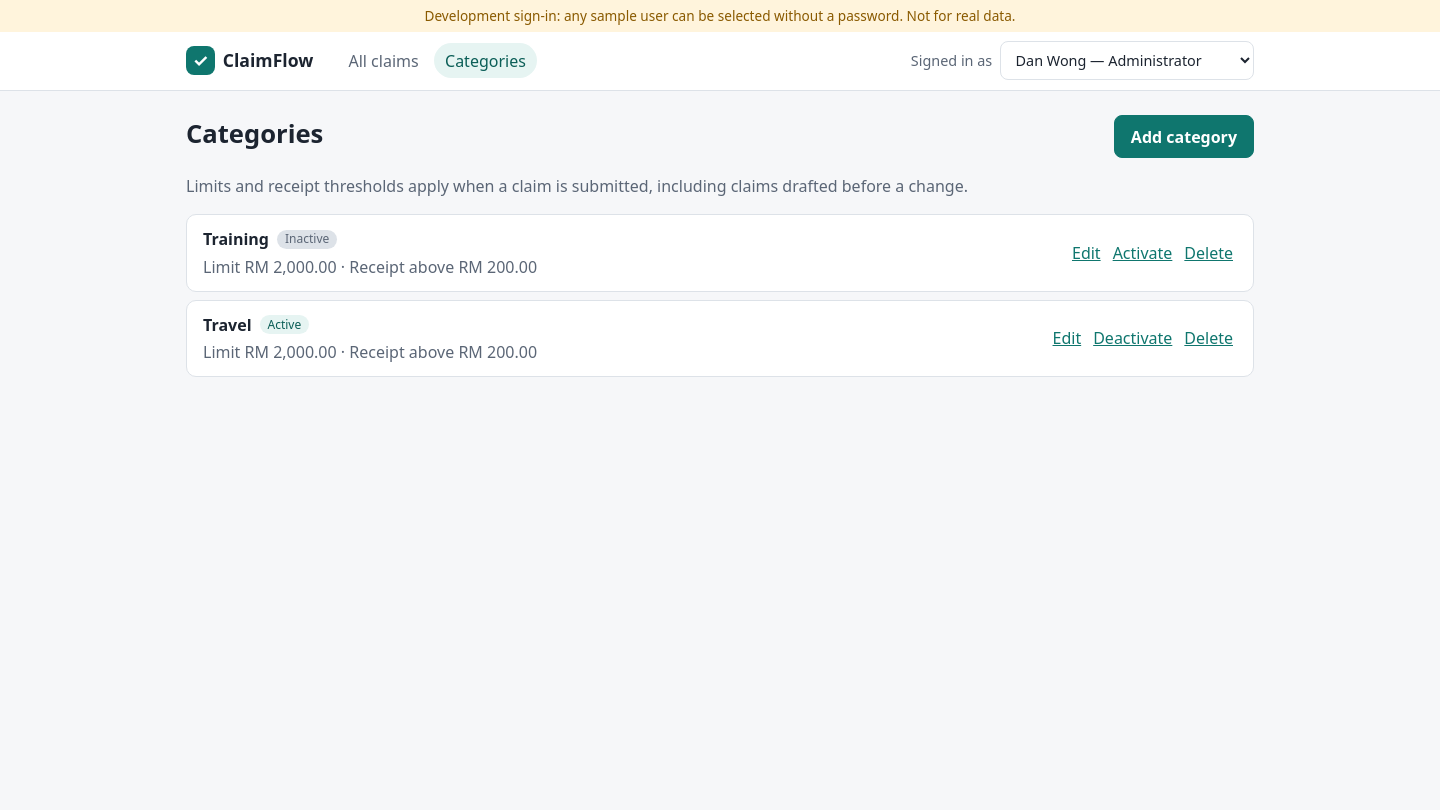
it: category management › rejects malformed limits locally
Click the button "Add category" at (1184, 137), box [1114, 115, 1254, 158]
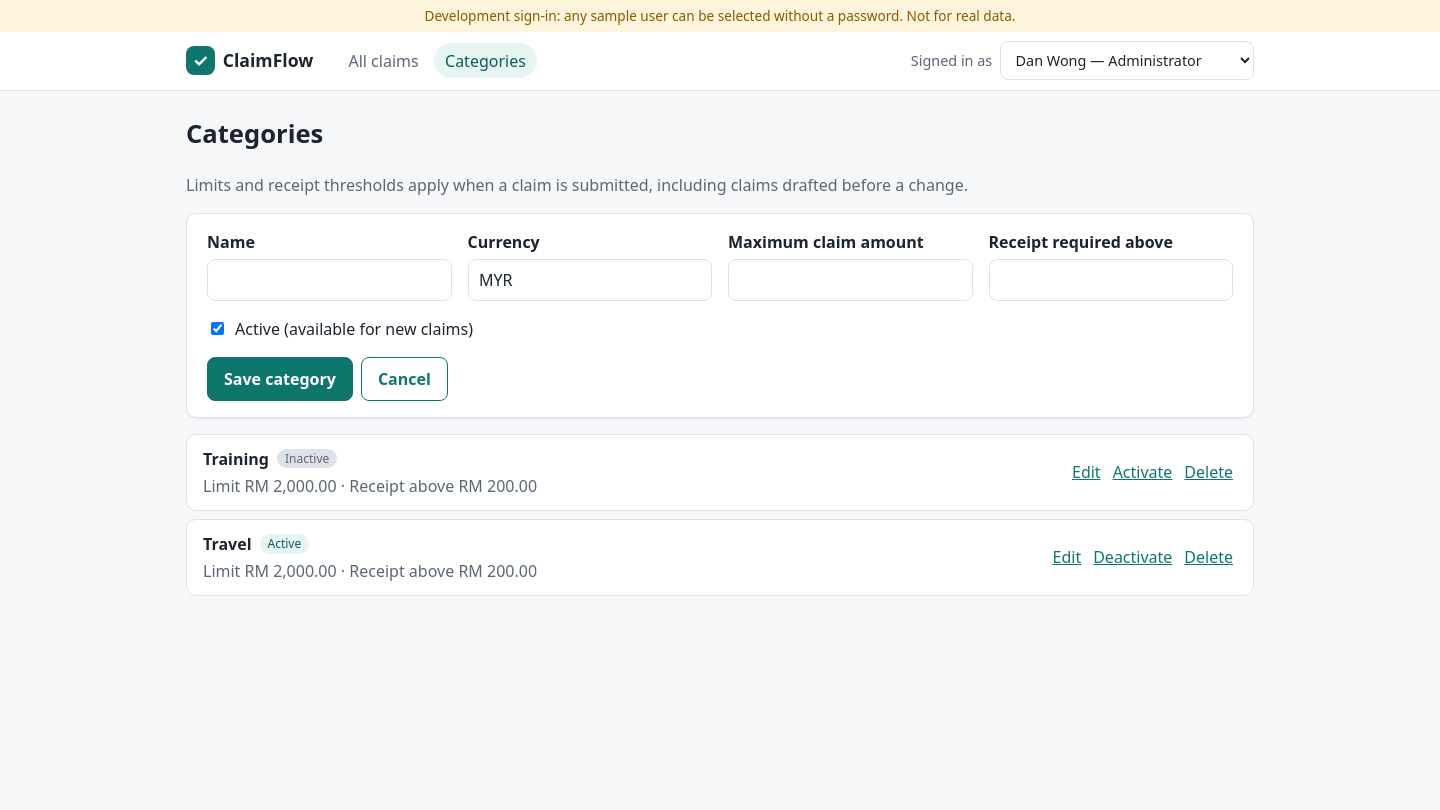
Type "abc" into the field labelled "Maximum claim amount" at (850, 280), box [728, 259, 972, 301]
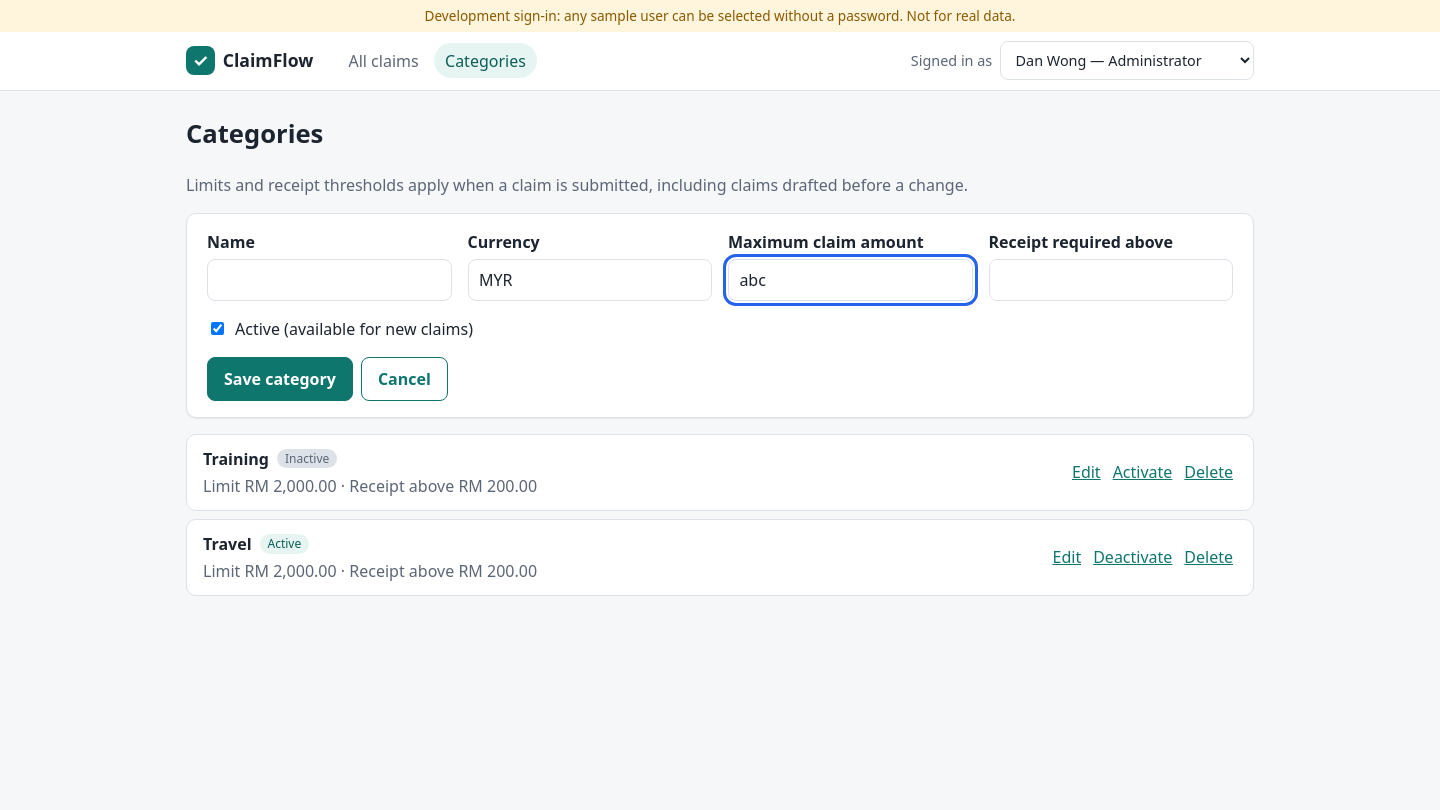
Click the button "Save category" at (280, 379), box [207, 357, 353, 401]
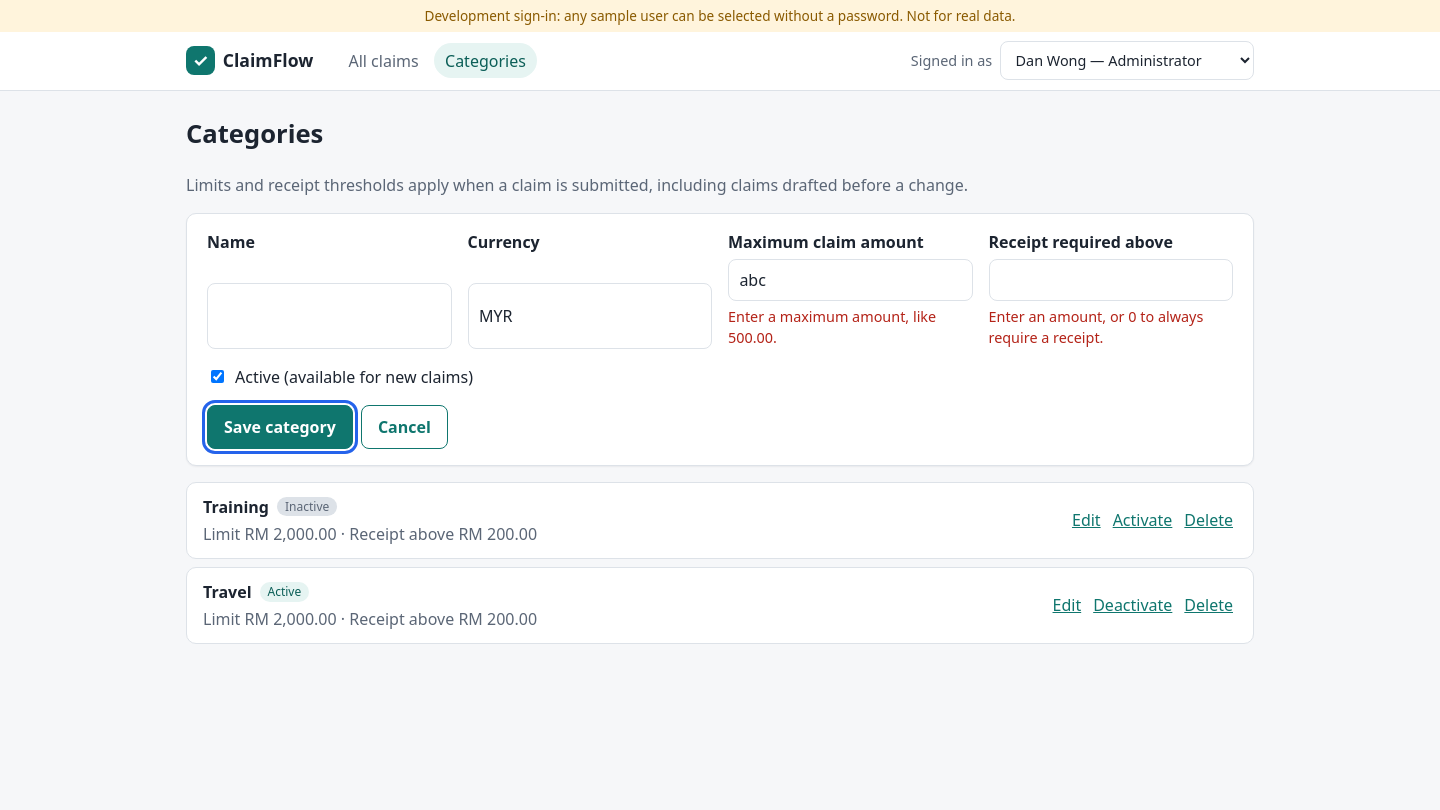
Now the text "Enter a maximum amount, like 500.00." is shown, box [728, 306, 972, 349]
